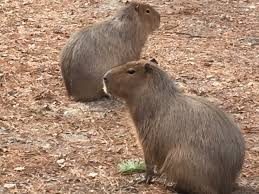capivara: (103, 58, 246, 194), (58, 1, 161, 103)
